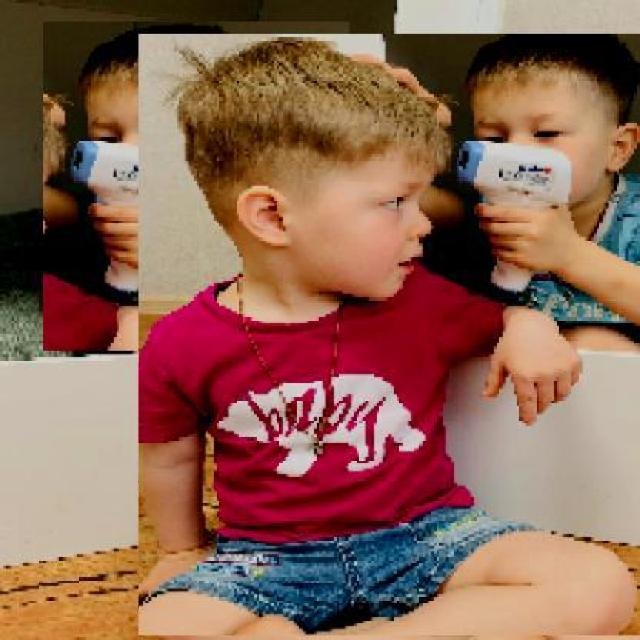child: (137, 34, 640, 637), (42, 21, 349, 352)
